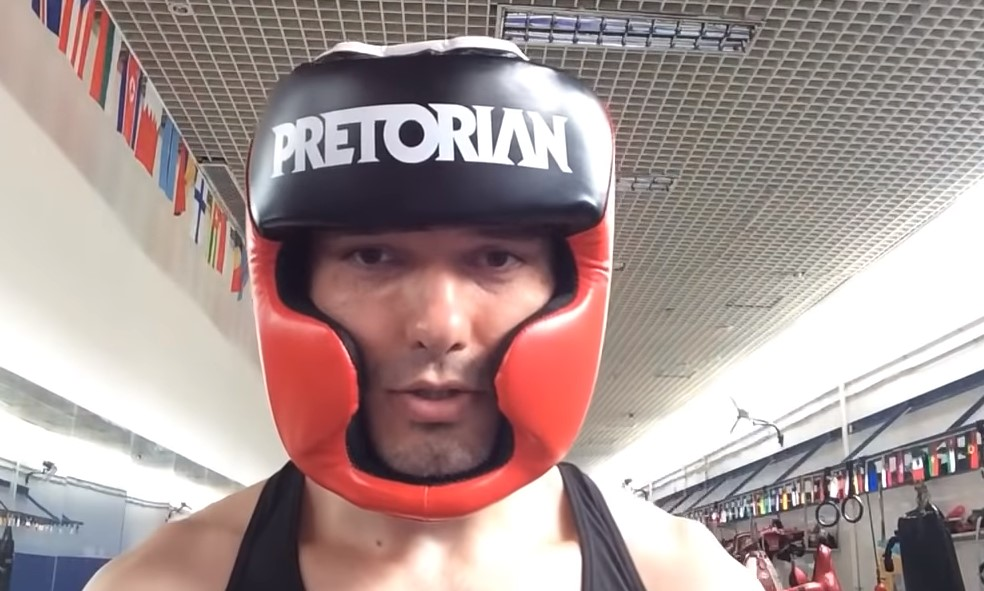face_no_mask: (279, 162, 575, 488)
